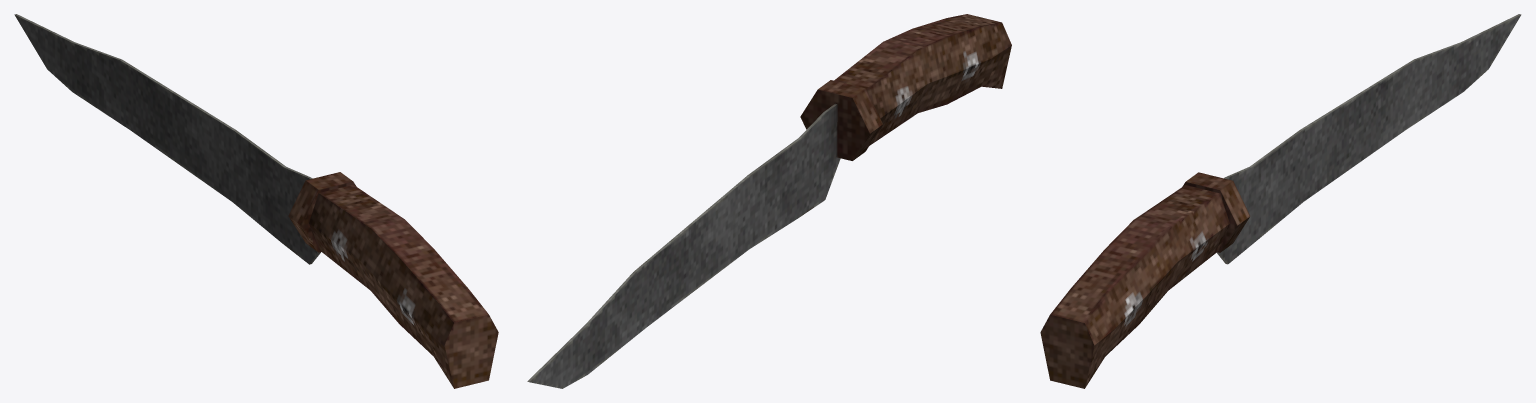
File: knife-2.glb
The picture shows the model from 3 angles, left to right: view 1: azimuth 30°, elevation 25°; view 2: azimuth 150°, elevation 25°; view 3: azimuth 330°, elevation 25°; orthographic projection.
Parts seen in each view (by area): view 1: Knife_2; view 2: Knife_2; view 3: Knife_2.
Part boxes in pixels (bbox=[...]): Knife_2: bbox=[14, 14, 498, 388]; Knife_2: bbox=[527, 14, 1011, 388]; Knife_2: bbox=[1040, 14, 1521, 388].
Bounding box in the file's own units: 0.3633 × 0.4997 × 4.13.
1 material, 1 textured.
